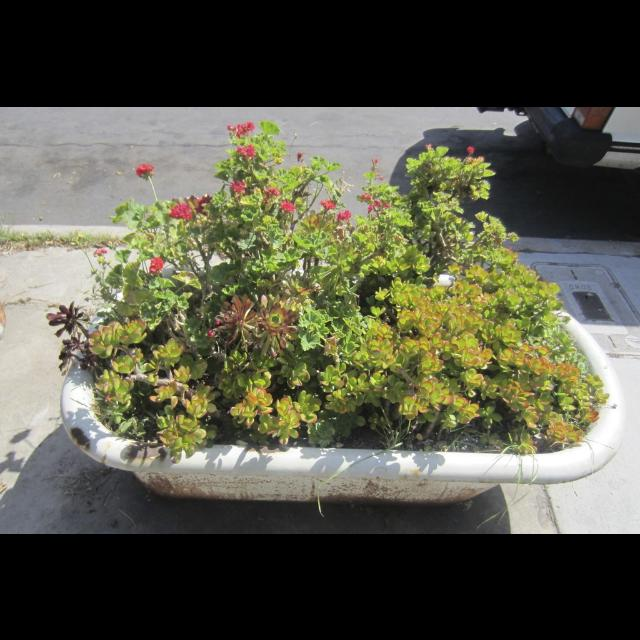Flower: (127, 249, 173, 285), (227, 120, 255, 138), (361, 193, 389, 211), (194, 192, 216, 212), (134, 162, 154, 180), (169, 200, 189, 218), (236, 141, 254, 159), (320, 199, 336, 213), (280, 200, 298, 212), (231, 182, 245, 196), (263, 188, 279, 200), (334, 210, 350, 222), (92, 246, 106, 256), (468, 145, 476, 155), (297, 152, 303, 160), (378, 172, 384, 180), (373, 158, 377, 168), (426, 144, 432, 150)
